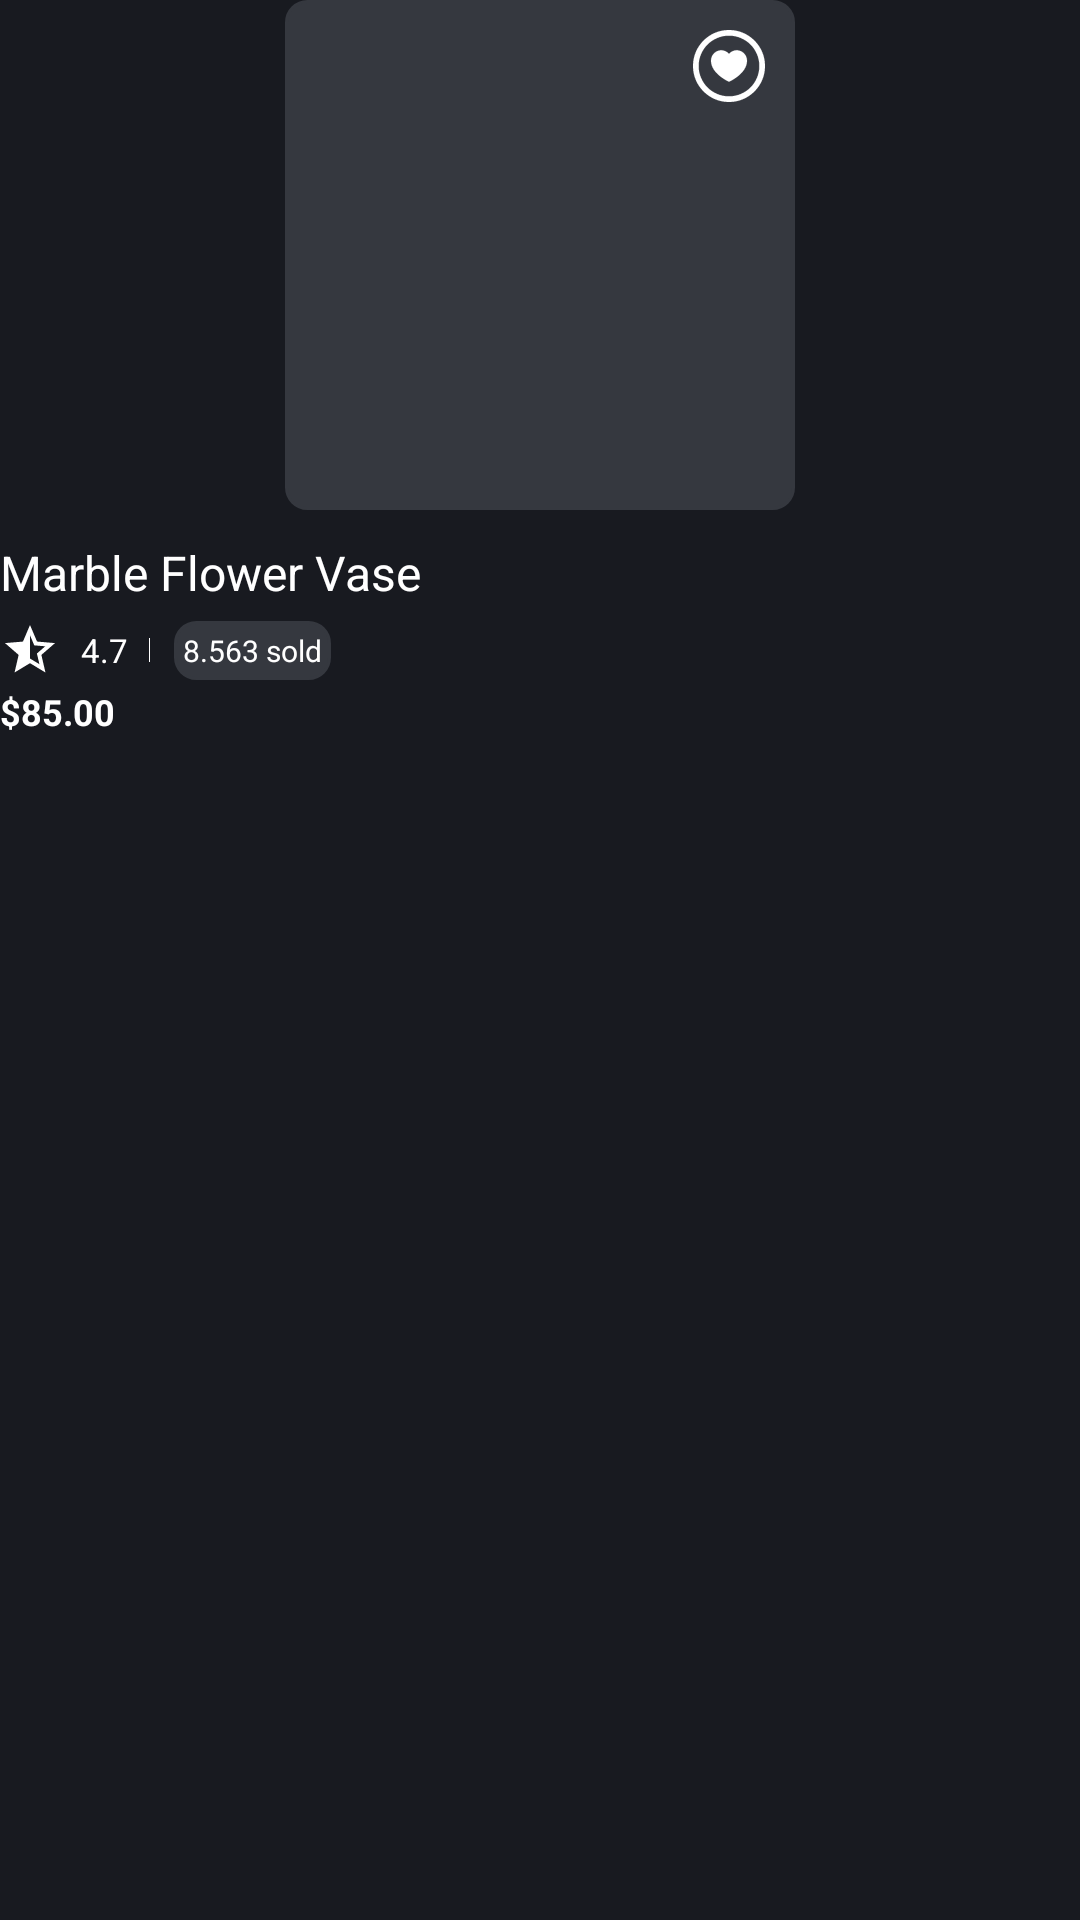

Icons on this 1080 × 1920 Android screen, each with its box as (x1, y1, x2, y2):
heart: (693, 30, 765, 102)
star: (5, 625, 55, 673)
